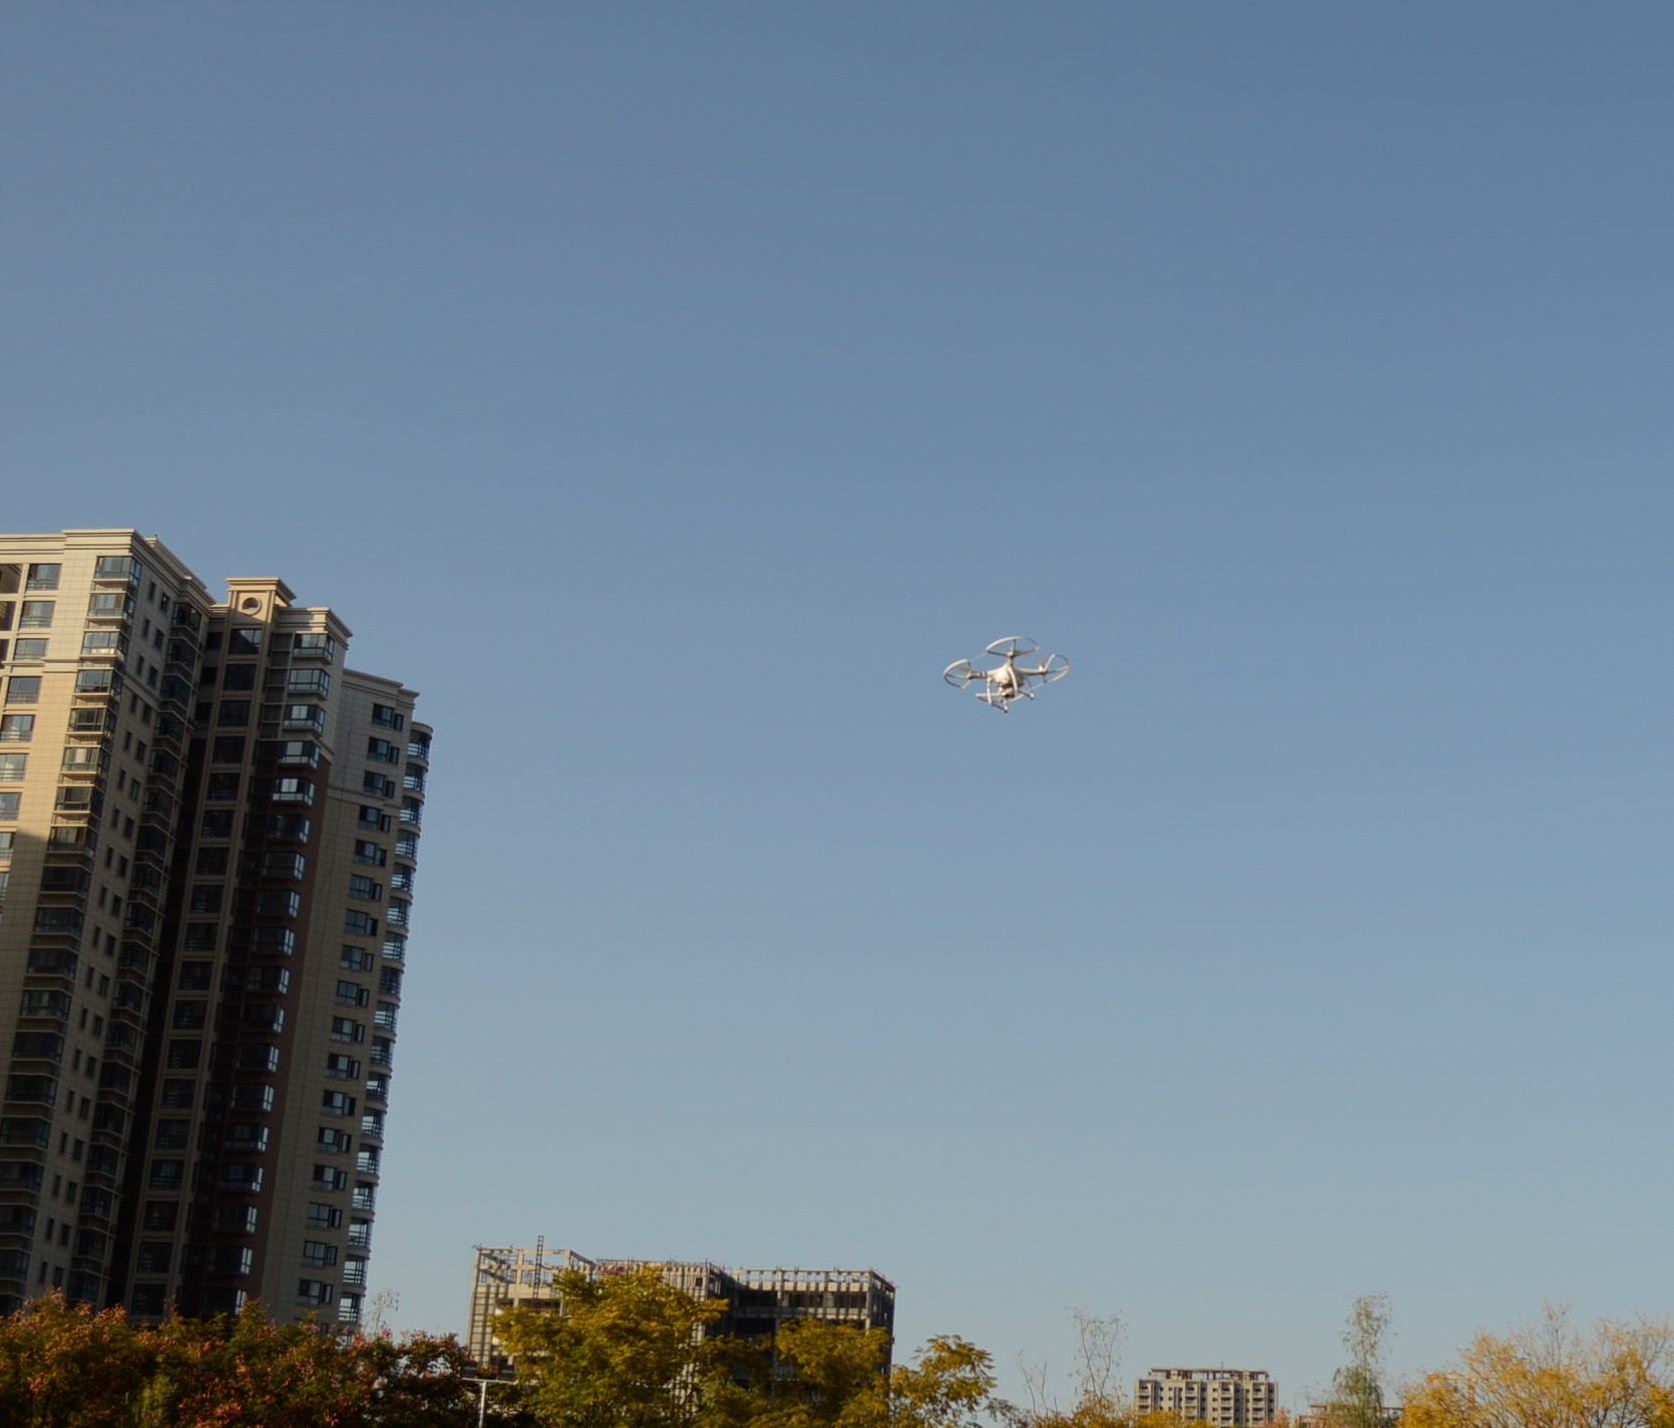DJI: (939, 630, 1079, 711)
